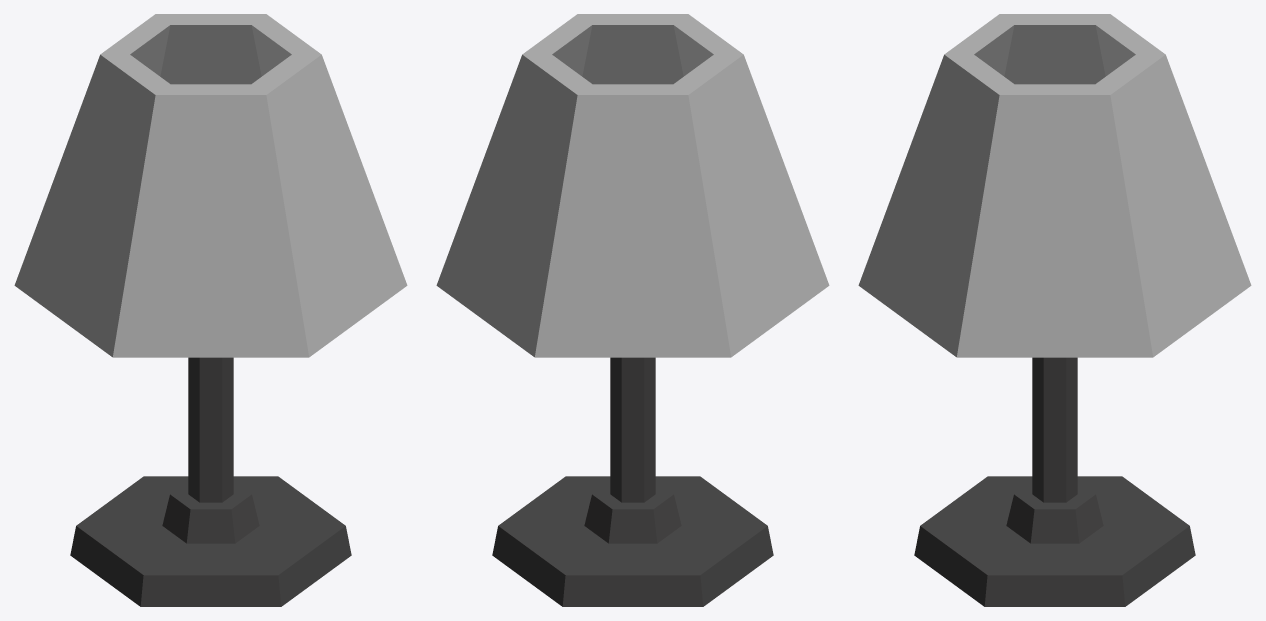
File: SM_Prop_Lamp_01.fbx
3 renders of one model, left to right at view 1: azimuth 30°, elevation 25°; view 2: azimuth 150°, elevation 25°; view 3: azimuth 270°, elevation 25°, orthographic.
Parts seen in each view (by area): view 1: SM_Prop_Lamp_01; view 2: SM_Prop_Lamp_01; view 3: SM_Prop_Lamp_01.
Part boxes in pixels (bbox=[...]): SM_Prop_Lamp_01: bbox=[14, 14, 407, 606]; SM_Prop_Lamp_01: bbox=[436, 14, 829, 606]; SM_Prop_Lamp_01: bbox=[858, 14, 1251, 606].
Size of the model in its own units: 29.89 by 48.53 by 34.51.
